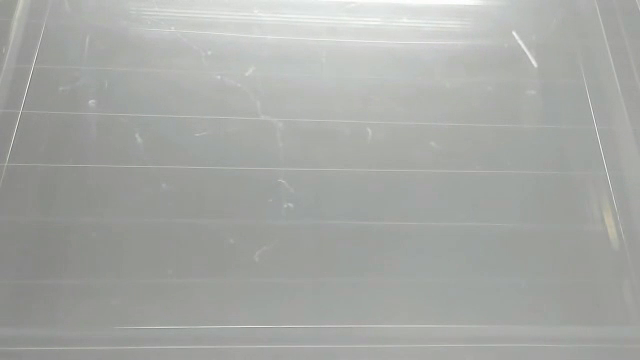alpha: (508, 25, 542, 70)
